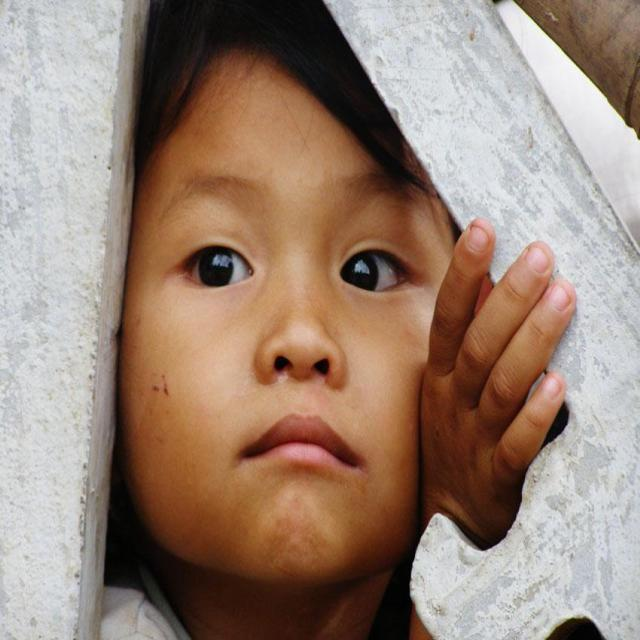no-glass: (178, 242, 412, 289)
